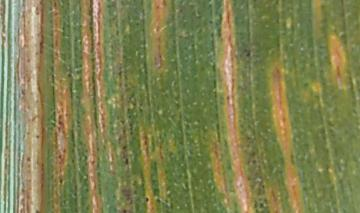tarspot: (242, 46, 255, 58), (23, 153, 34, 166), (142, 193, 152, 206), (119, 142, 129, 155), (57, 174, 66, 188), (122, 156, 132, 167), (64, 70, 74, 79), (33, 133, 41, 143), (32, 205, 41, 213), (120, 206, 130, 213)
